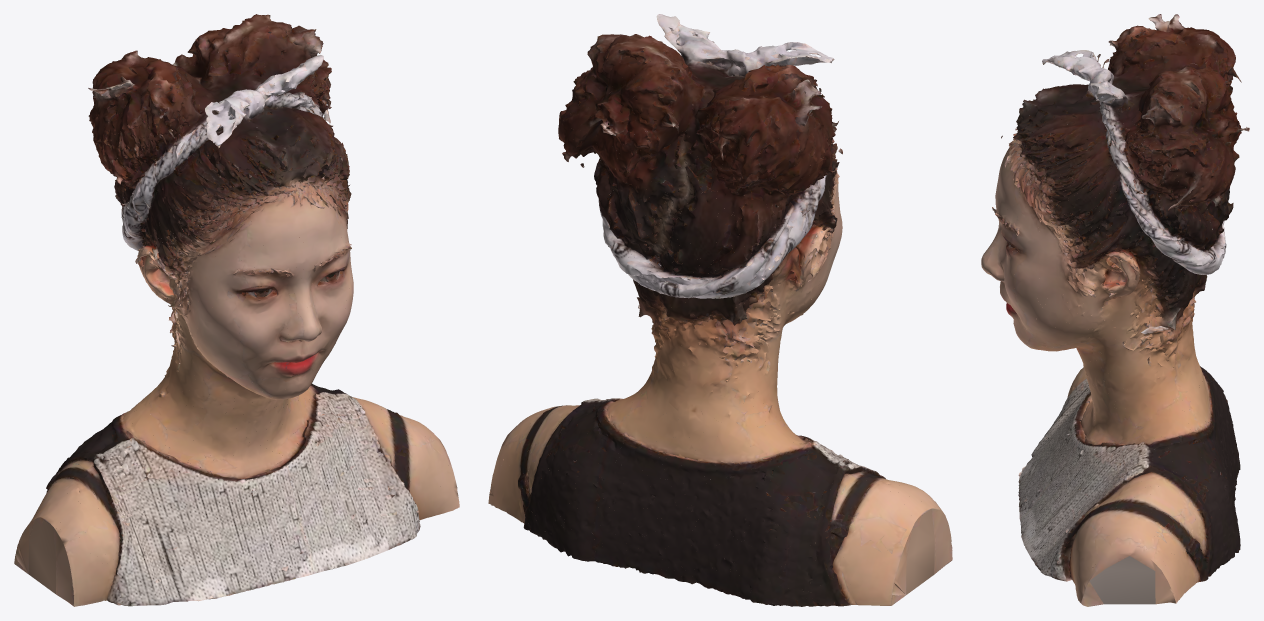
File: 真人头像_女_青年03_opt.glb
The picture shows the model from 3 angles, left to right: view 1: azimuth 30°, elevation 25°; view 2: azimuth 150°, elevation 25°; view 3: azimuth 270°, elevation 25°; orthographic projection. The views are drawn at different scales.
Visible parts, largest first — view 1: smodel2_apose_43_h-100k_Material_u1_v1, smodel2_apose_43_h-100k_Material_u1_v1_2, smodel2_apose_43_h-100k_Material_u1_v1_1, smodel2_apose_43_h-100k_Material_u1_v1_3; view 2: smodel2_apose_43_h-100k_Material_u1_v1, smodel2_apose_43_h-100k_Material_u1_v1_2, smodel2_apose_43_h-100k_Material_u1_v1_1, smodel2_apose_43_h-100k_Material_u1_v1_3; view 3: smodel2_apose_43_h-100k_Material_u1_v1, smodel2_apose_43_h-100k_Material_u1_v1_2, smodel2_apose_43_h-100k_Material_u1_v1_1, smodel2_apose_43_h-100k_Material_u1_v1_3.
Boxes of the visible parts, x1=… form: smodel2_apose_43_h-100k_Material_u1_v1: x1=17, y1=14, x2=459, y2=606; smodel2_apose_43_h-100k_Material_u1_v1_2: x1=14, y1=20, x2=452, y2=603; smodel2_apose_43_h-100k_Material_u1_v1_1: x1=28, y1=14, x2=449, y2=606; smodel2_apose_43_h-100k_Material_u1_v1_3: x1=15, y1=27, x2=421, y2=605; smodel2_apose_43_h-100k_Material_u1_v1: x1=488, y1=14, x2=952, y2=606; smodel2_apose_43_h-100k_Material_u1_v1_2: x1=520, y1=22, x2=952, y2=606; smodel2_apose_43_h-100k_Material_u1_v1_1: x1=501, y1=14, x2=952, y2=606; smodel2_apose_43_h-100k_Material_u1_v1_3: x1=503, y1=21, x2=940, y2=606; smodel2_apose_43_h-100k_Material_u1_v1: x1=981, y1=14, x2=1248, y2=606; smodel2_apose_43_h-100k_Material_u1_v1_2: x1=995, y1=17, x2=1249, y2=582; smodel2_apose_43_h-100k_Material_u1_v1_1: x1=983, y1=15, x2=1244, y2=604; smodel2_apose_43_h-100k_Material_u1_v1_3: x1=986, y1=15, x2=1246, y2=579.
Bounding box in the file's own units: 0.255 × 0.3 × 0.1575.
Materials: 1 (1 with a texture image).
